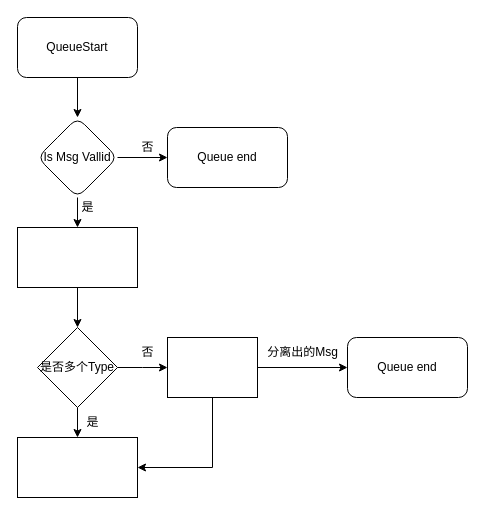
This 485x515 diagram has some shape labels left out. Here are the shapes that lost their labels. From the top down, the box of each, then its label:
(16, 226, 138, 288): Load Order Cancel Queue
(166, 336, 258, 398): 根据Type分离Msg
